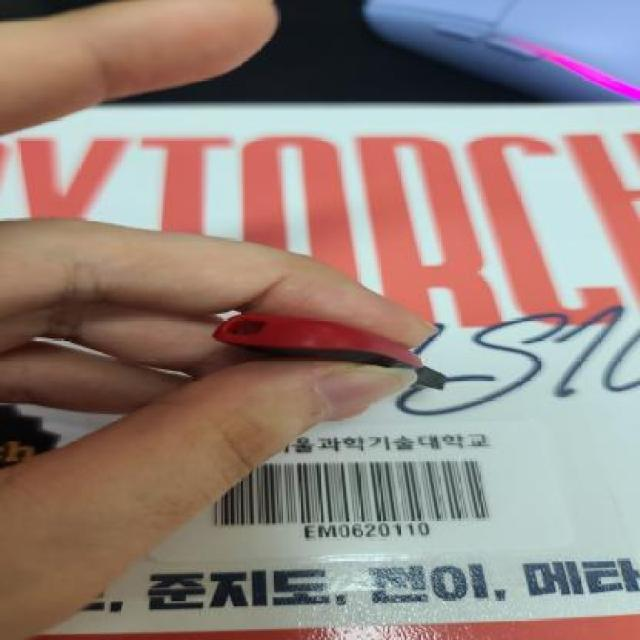Flashdisk: (212, 311, 448, 392)
